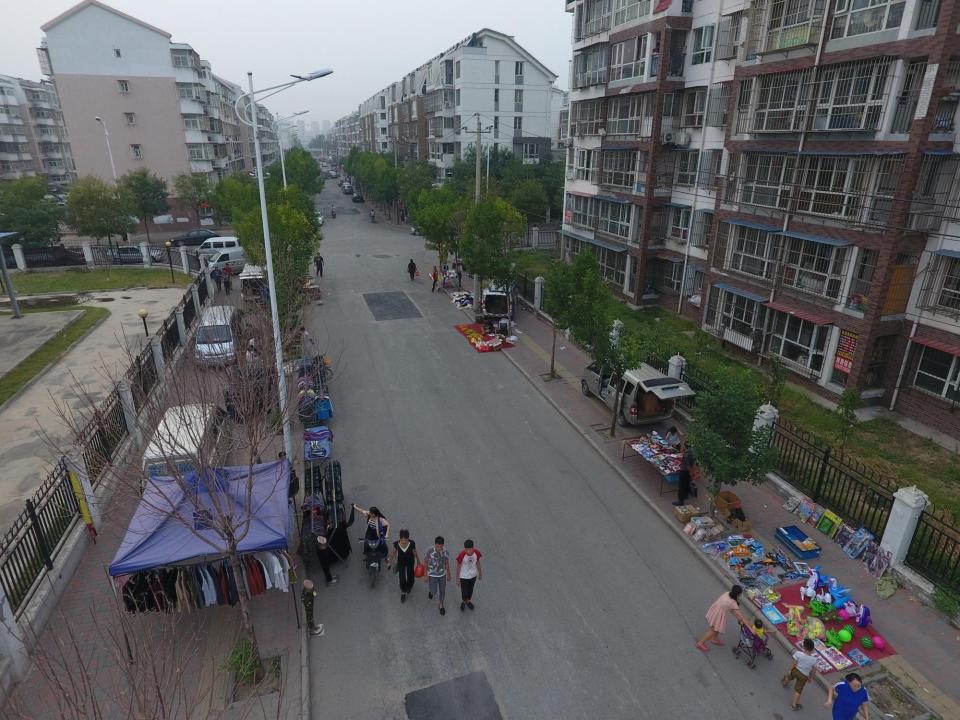car: (8, 242, 52, 268), (105, 246, 164, 264), (169, 228, 222, 246), (48, 244, 87, 266), (409, 221, 458, 237), (308, 212, 324, 225), (342, 185, 354, 194), (351, 193, 363, 202), (342, 183, 350, 190), (330, 172, 336, 177), (322, 162, 327, 166)
van: (139, 402, 234, 514), (582, 356, 696, 426), (196, 306, 244, 368), (206, 246, 260, 279), (483, 278, 519, 319), (238, 262, 271, 304), (194, 236, 243, 262)
